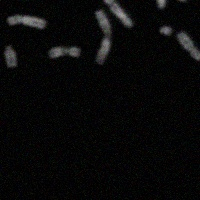chromosome: (95, 10, 111, 64), (103, 0, 132, 27), (177, 31, 200, 60), (7, 16, 45, 30), (49, 46, 80, 57), (4, 46, 16, 67), (150, 0, 165, 8), (159, 26, 170, 33), (178, 0, 196, 1)
